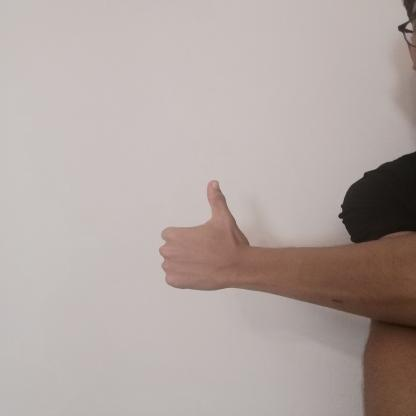ALIF: (141, 166, 271, 306)
